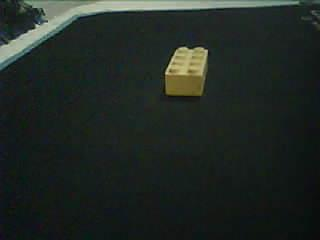lego: (163, 45, 208, 96)
